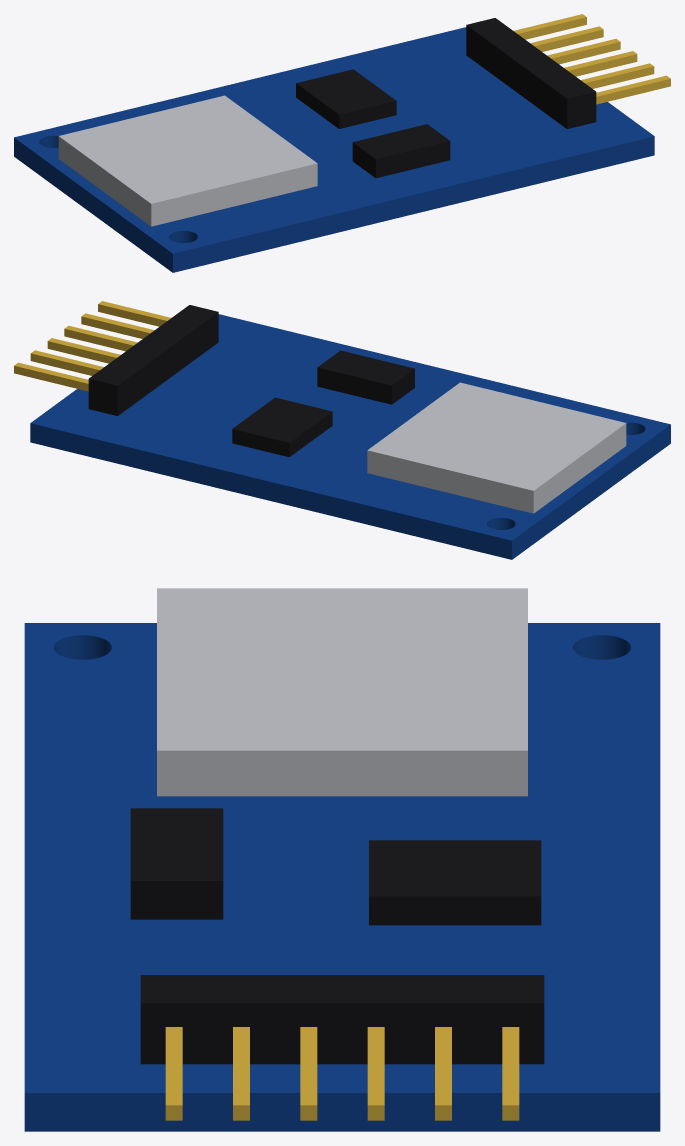
The model's file is modulo_microsd.glb.
3 views of the same model, one above another, from view 1: azimuth 30°, elevation 25°; view 2: azimuth 150°, elevation 25°; view 3: azimuth 270°, elevation 25° (orthographic). The views are drawn at different scales.
Parts seen in each view (by area): view 1: pcb, nc_soquete, ci, nc_pinos; view 2: pcb, nc_soquete, ci, nc_pinos; view 3: pcb, nc_soquete, ci, nc_pinos.
Boxes of the visible parts, x1,y1,x2,y2 form: pcb: (14, 27, 654, 272); nc_soquete: (58, 95, 317, 226); ci: (296, 18, 596, 178); nc_pinos: (514, 14, 670, 104); pcb: (30, 314, 670, 559); nc_soquete: (367, 382, 626, 513); ci: (88, 305, 414, 457); nc_pinos: (14, 301, 170, 391); pcb: (24, 623, 660, 1131); nc_soquete: (157, 588, 527, 796); ci: (130, 808, 544, 1064); nc_pinos: (165, 1027, 519, 1120).
Bounding box in the file's own units: 46.5 × 4.14 × 24.
